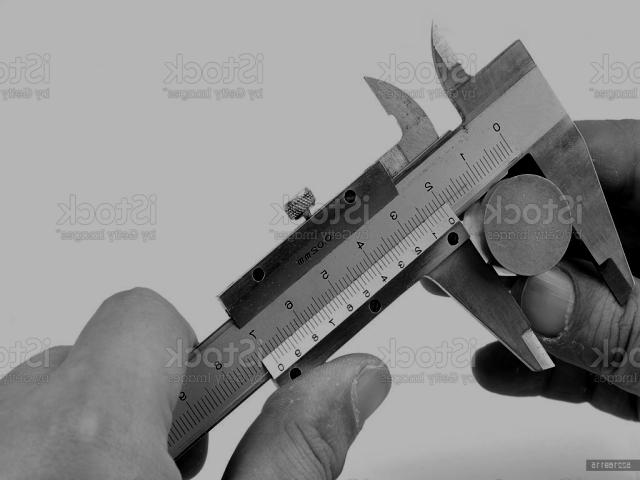Calipers: (169, 28, 634, 456)
Hand: (0, 287, 392, 480), (474, 121, 640, 421)
